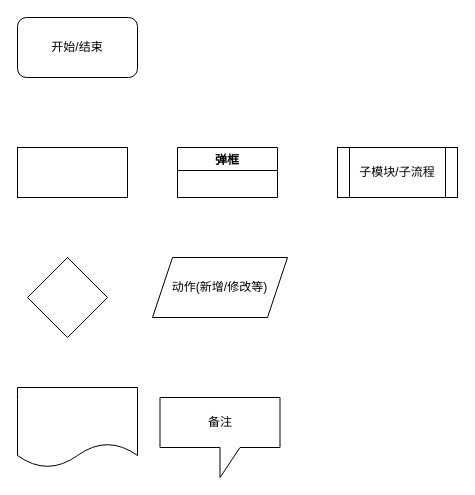
The diagram is 475 pixels wide and 495 high, and some of its shapes have lost their labels. Each missing label, with the centre of its shape:
"判断条件" belongs at point 67,297.
"文档说明" belongs at point 77,427.
"页面" belongs at point 72,172.
